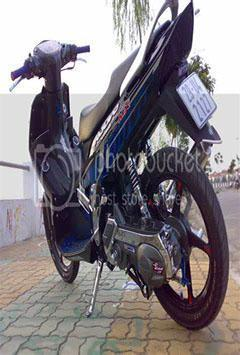motorcycle: (6, 0, 236, 344)
